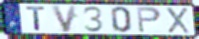0: (110, 5, 134, 34)
3: (83, 6, 105, 33)
P: (136, 6, 163, 34)
T: (26, 6, 48, 32)
V: (50, 4, 78, 33)
X: (164, 6, 192, 34)
